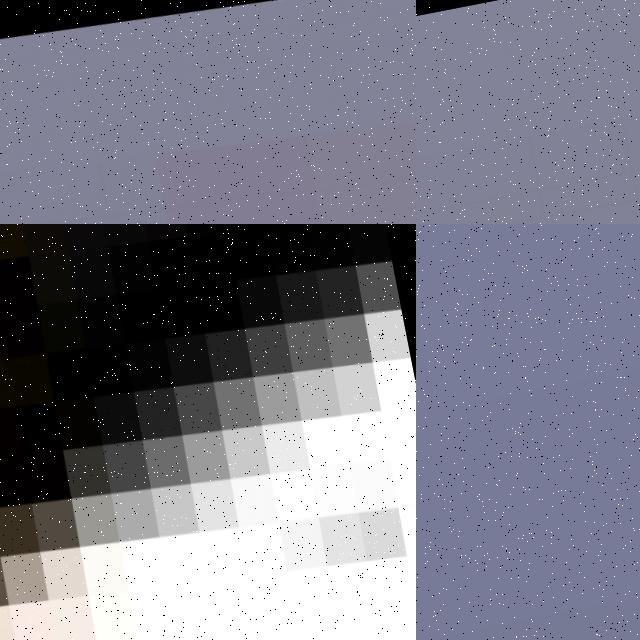drone: (0, 224, 416, 640), (0, 0, 416, 224)
